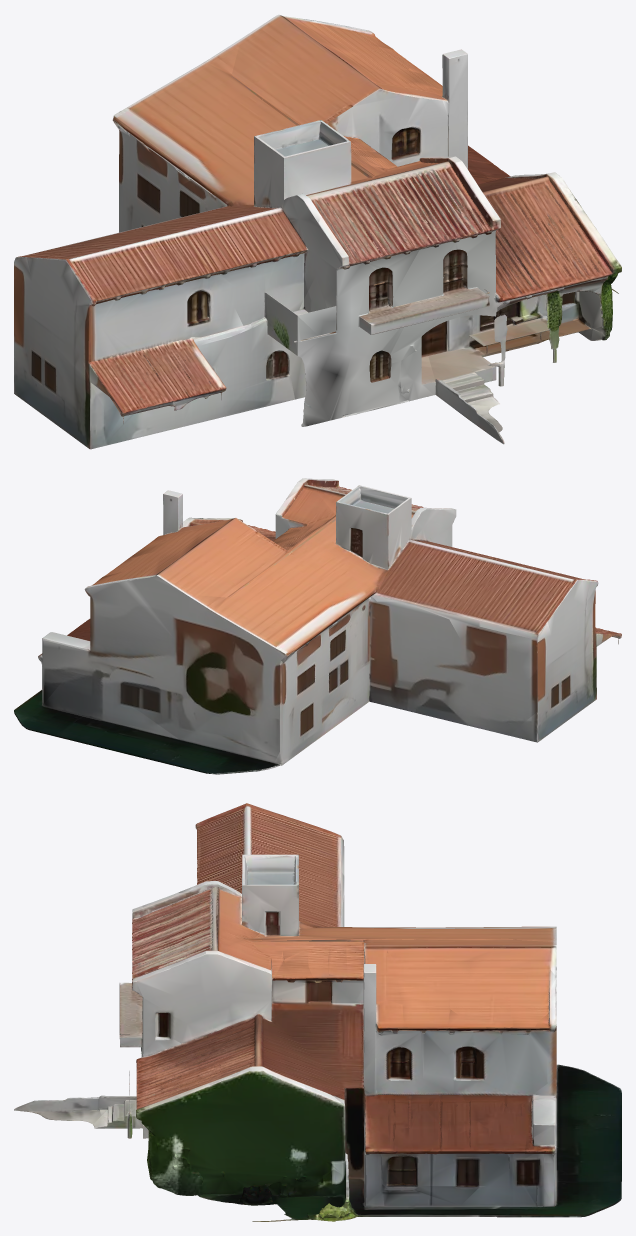
Rendered from bld_spanish-colonial-house.glb.
3 renders of one model, top to bottom at view 1: azimuth 30°, elevation 25°; view 2: azimuth 150°, elevation 25°; view 3: azimuth 270°, elevation 25°, orthographic. The views are drawn at different scales.
Visible parts, largest first — view 1: Object_2; view 2: Object_2; view 3: Object_2.
Part boxes in pixels (x1,y1,x2,y2): Object_2: [14, 14, 621, 449]; Object_2: [14, 478, 621, 774]; Object_2: [14, 803, 621, 1221].
Bounding box in the file's own units: 1.9 × 0.7275 × 1.9.
Materials: 1 (1 with a texture image).
